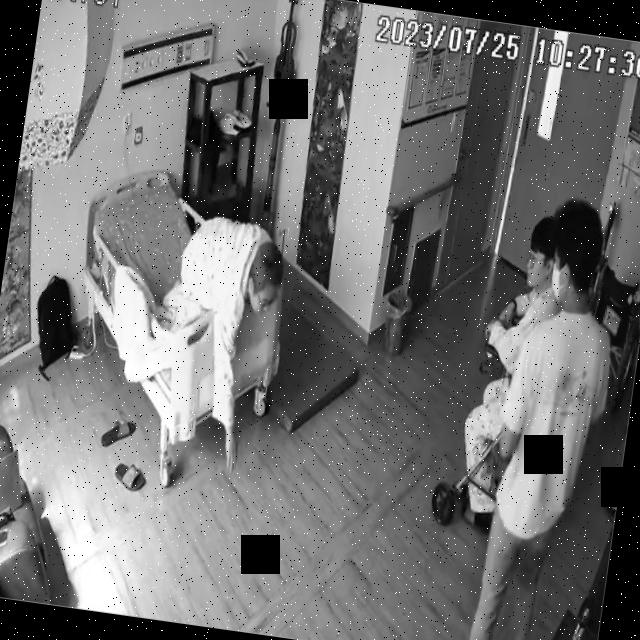danger: (146, 208, 292, 478)
patient: (144, 210, 292, 478)
